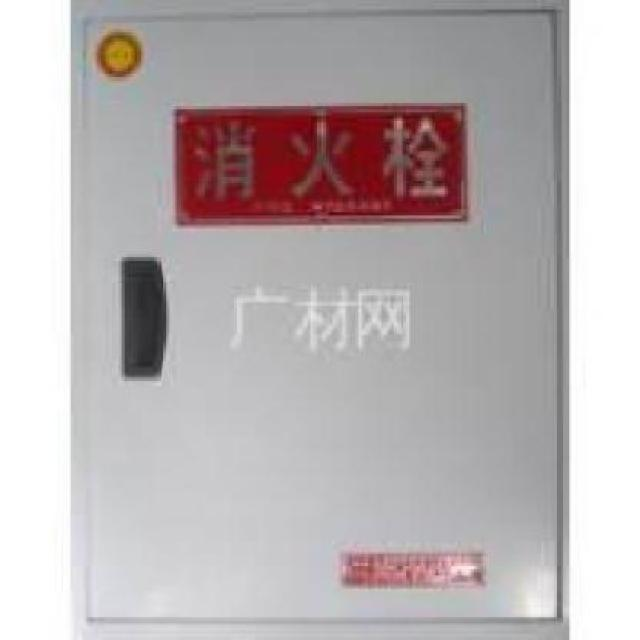firehydrant: (64, 0, 574, 640)
